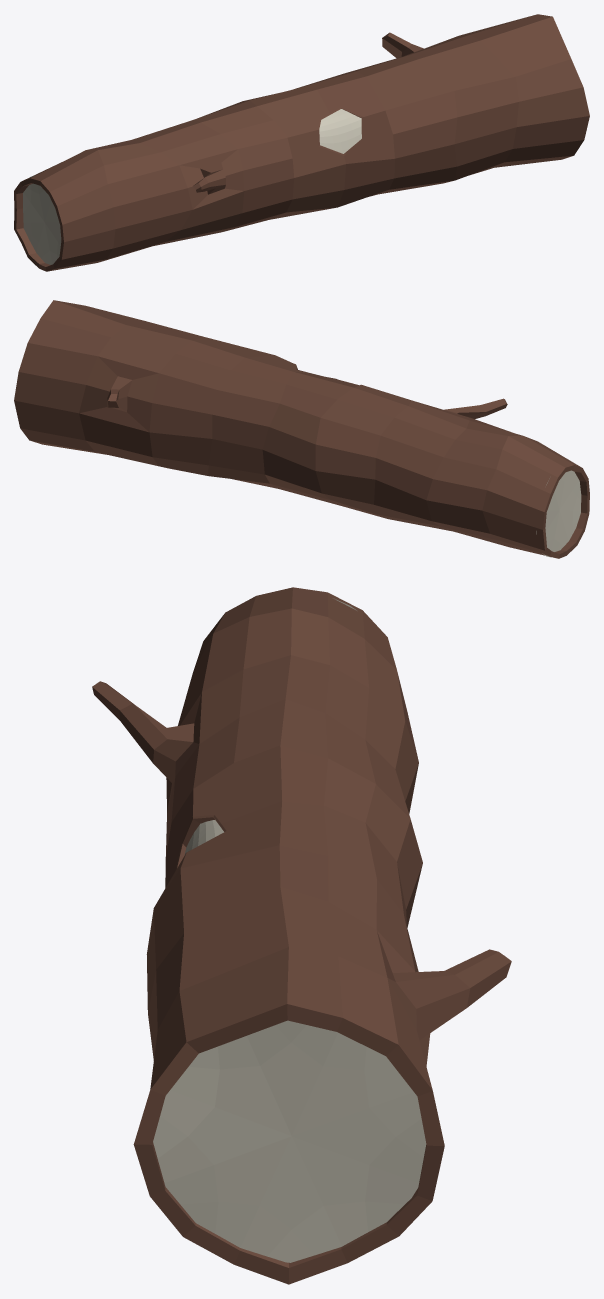
File: TreeLog.fbx
3 renders of one model, top to bottom at view 1: azimuth 30°, elevation 25°; view 2: azimuth 150°, elevation 25°; view 3: azimuth 270°, elevation 25°, orthographic. The views are drawn at different scales.
Visible parts, largest first — view 1: Cylinder.025, Cylinder.029; view 2: Cylinder.025, Cylinder.029; view 3: Cylinder.025, Cylinder.029.
Part boxes in pixels (x1,y1,x2,y2): Cylinder.025: (14,14,589,271); Cylinder.029: (23,109,361,264); Cylinder.025: (14,300,589,558); Cylinder.029: (536,470,581,557); Cylinder.025: (92,587,511,1284); Cylinder.029: (153,598,426,1262).
Size of the model in its own units: 206 by 53.91 by 72.7.
